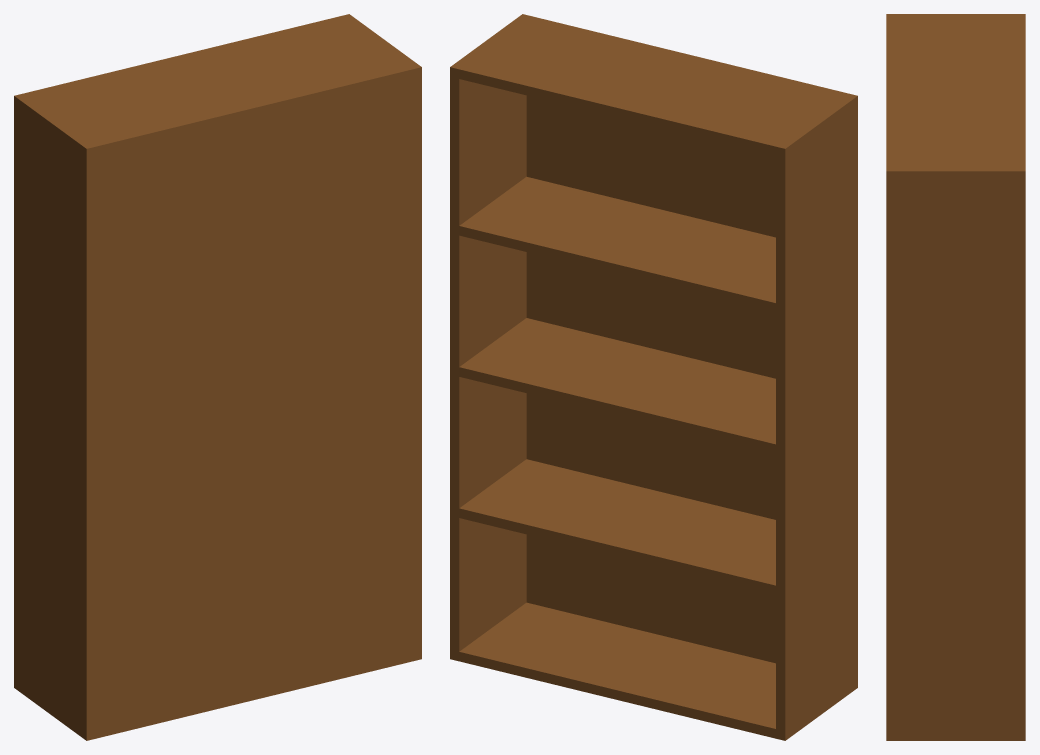
File: bookshelf.dae
3 views of the same model, side by side, from view 1: azimuth 30°, elevation 25°; view 2: azimuth 150°, elevation 25°; view 3: azimuth 270°, elevation 25° (orthographic). The views are drawn at different scales.
Parts seen in each view (by area): view 1: Bookshelf; view 2: Bookshelf; view 3: Bookshelf.
Boxes of the visible parts, box(x1,y1,x2,y2) form: Bookshelf: box(14, 14, 421, 740); Bookshelf: box(450, 14, 857, 740); Bookshelf: box(886, 14, 1025, 740).
Bounding box in the file's own units: 0.8 × 0.3 × 1.35.
